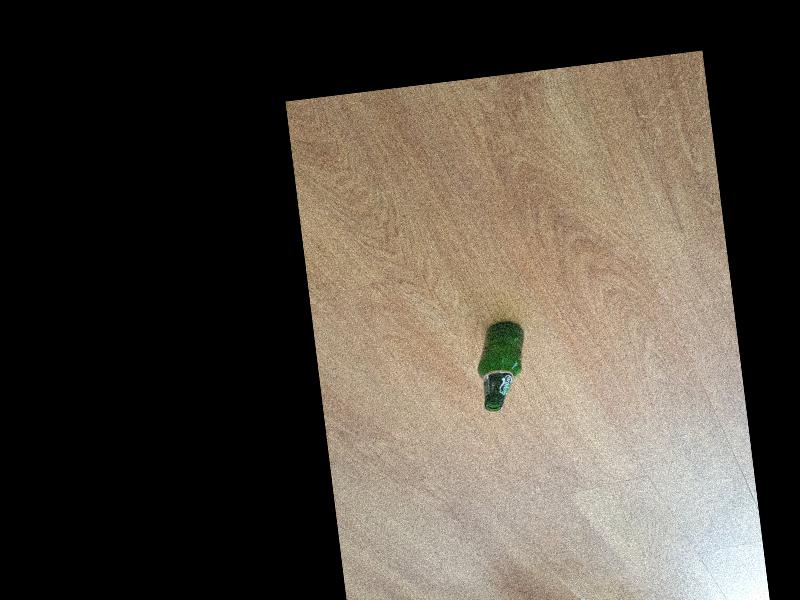Beer: (471, 318, 533, 413)
